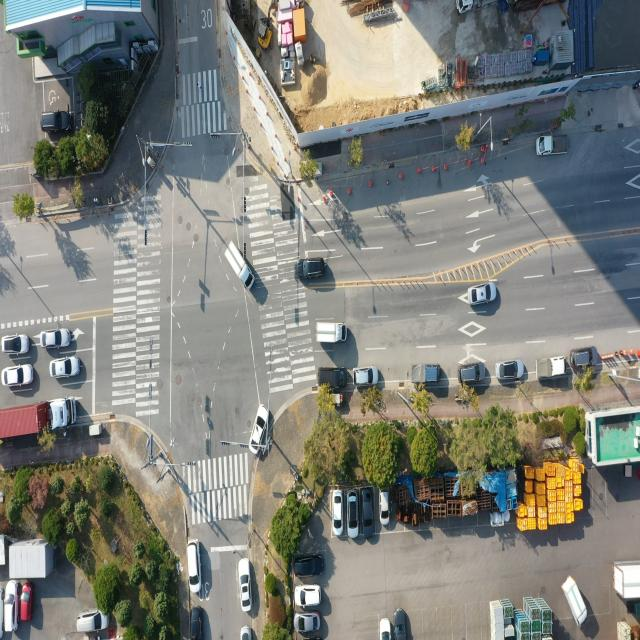car: (250, 404, 269, 454), (76, 610, 109, 638), (40, 109, 70, 134), (3, 364, 34, 387), (320, 366, 351, 389), (187, 539, 200, 593), (458, 362, 486, 387), (294, 556, 323, 580), (496, 358, 525, 382), (4, 582, 17, 635), (298, 259, 327, 282), (468, 282, 496, 305), (52, 356, 81, 378), (240, 560, 252, 612), (1, 335, 29, 357), (571, 347, 598, 369), (361, 489, 373, 537), (353, 365, 379, 387), (41, 330, 69, 350), (297, 586, 322, 608), (19, 579, 32, 621), (334, 491, 345, 537), (348, 492, 359, 538), (296, 616, 321, 636), (192, 605, 204, 640), (394, 609, 407, 640), (380, 490, 390, 524), (381, 619, 392, 640), (241, 626, 252, 640), (634, 601, 640, 620)
large_truck: (0, 397, 73, 444)
medium_truck: (224, 242, 253, 292), (613, 562, 640, 600), (459, 0, 483, 17)
small_truck: (562, 576, 587, 626), (408, 361, 442, 385), (536, 354, 568, 379), (316, 323, 349, 346), (538, 134, 570, 157)
